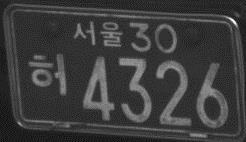0: (153, 22, 178, 54)
2: (155, 59, 194, 128)
3: (118, 55, 152, 123), (128, 20, 152, 54)
4: (81, 54, 116, 122)
6: (194, 60, 230, 128)
서울_O: (72, 20, 124, 48)
허: (27, 51, 69, 96)
